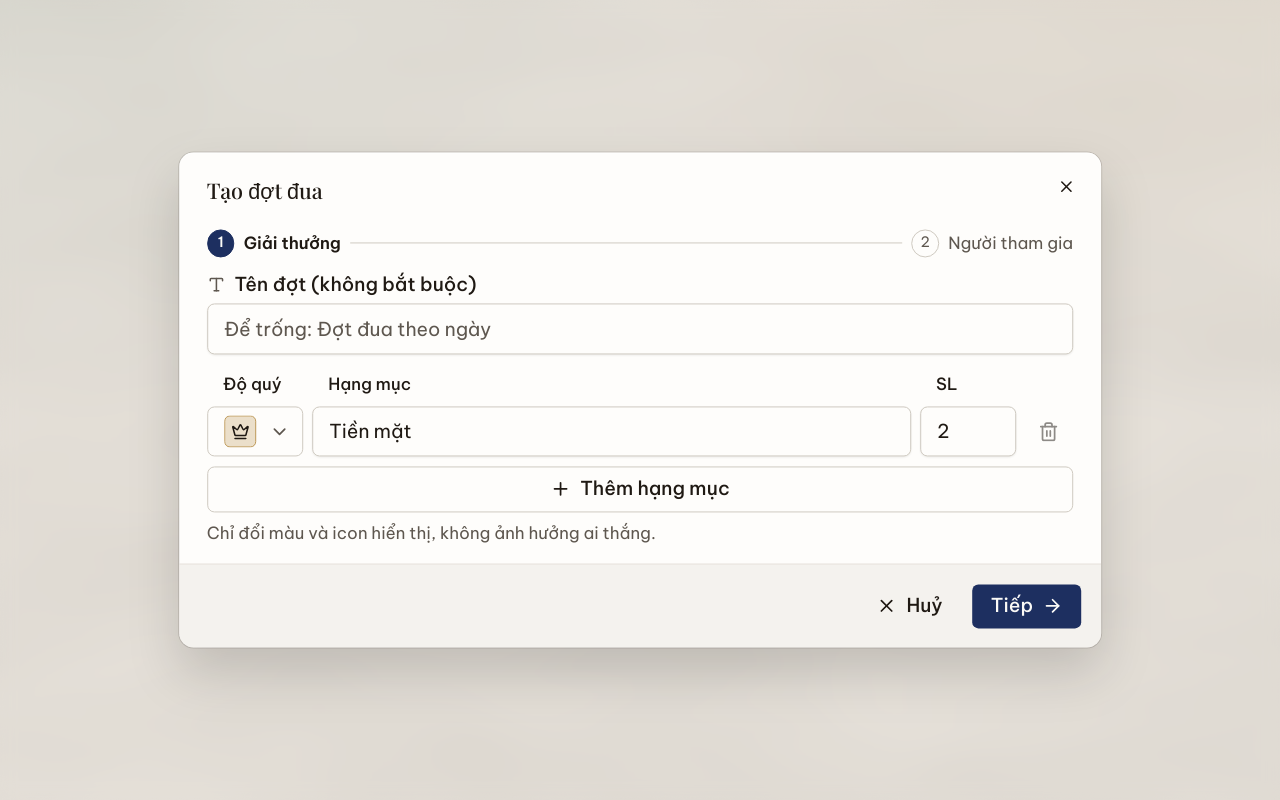
Test: CreateCatRaceDialog › explains the ticket mode on the roster step
Click the button "Tiếp" at (1027, 606), box [971,583,1082,629]
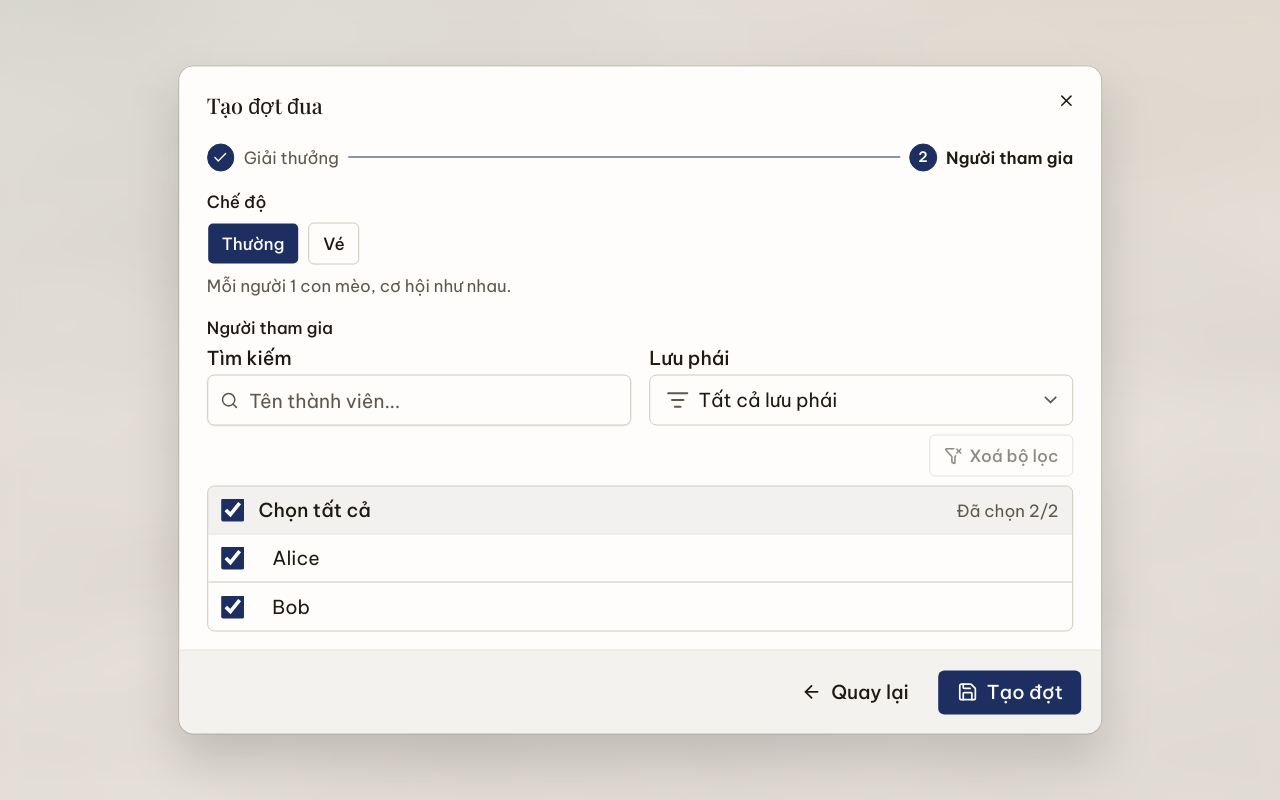
Click the button "Vé" at (334, 243), box [308,223,360,264]
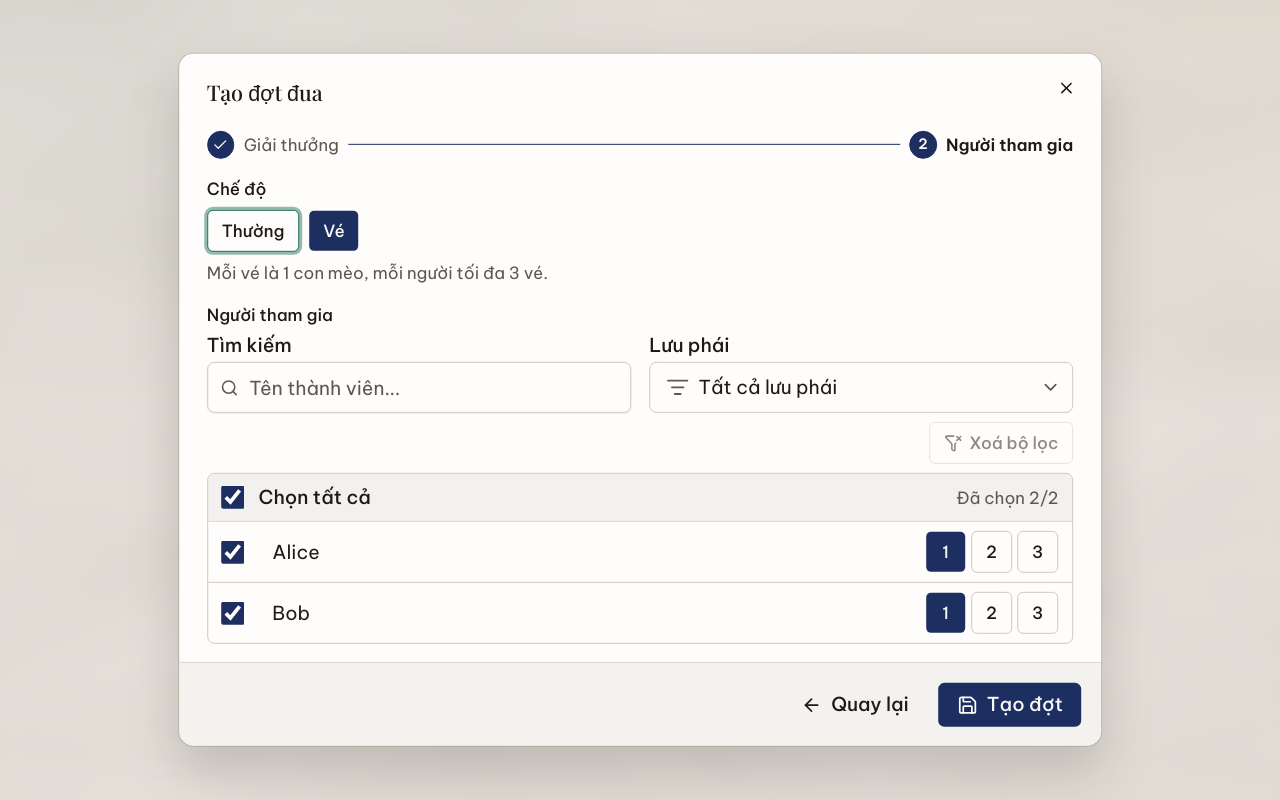
Now the text "Mỗi vé là 1 con mèo, mỗi người tối đa 3 vé." is shown, box [207,262,548,283]
